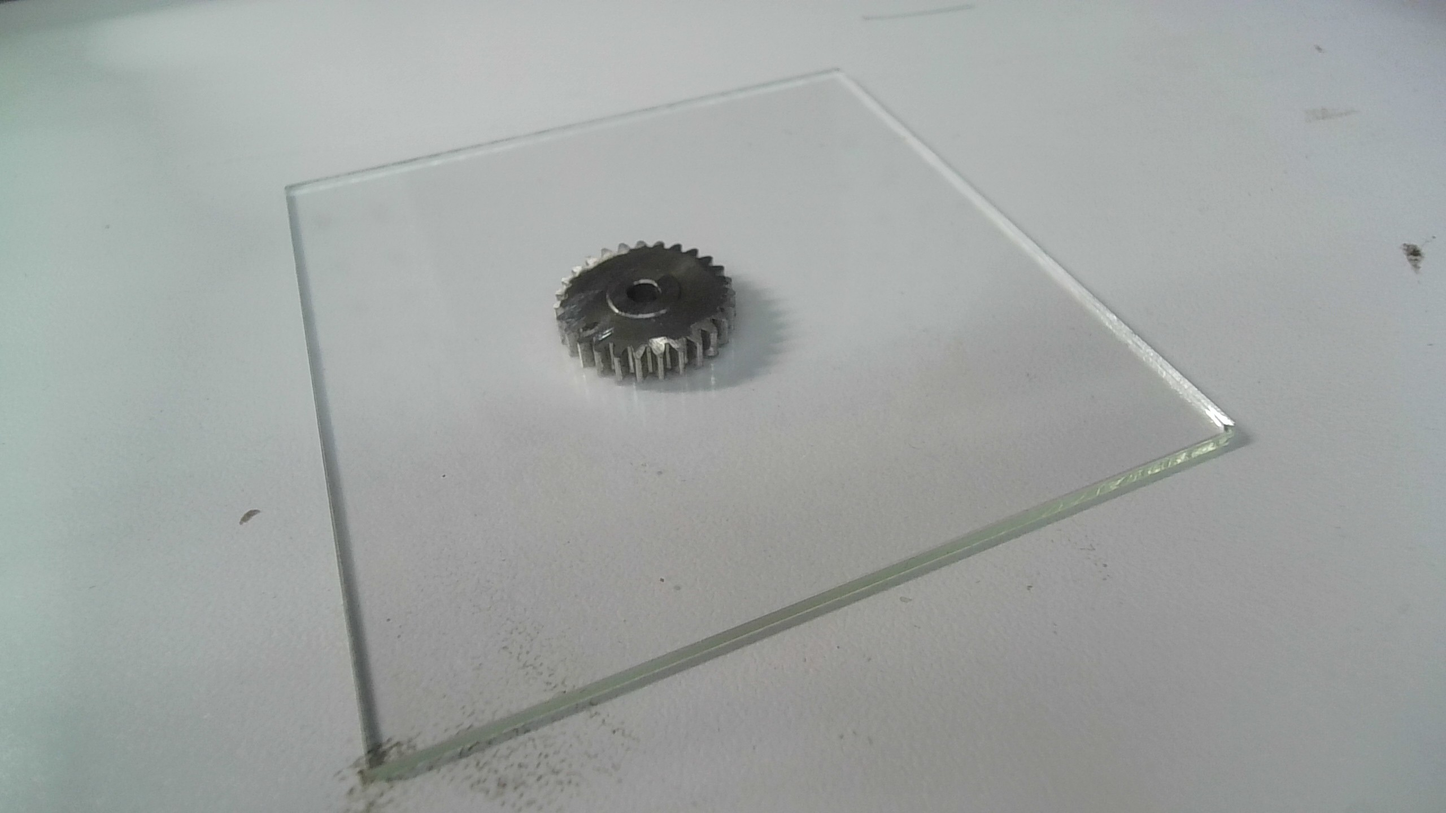gear: (551, 238, 738, 385)
